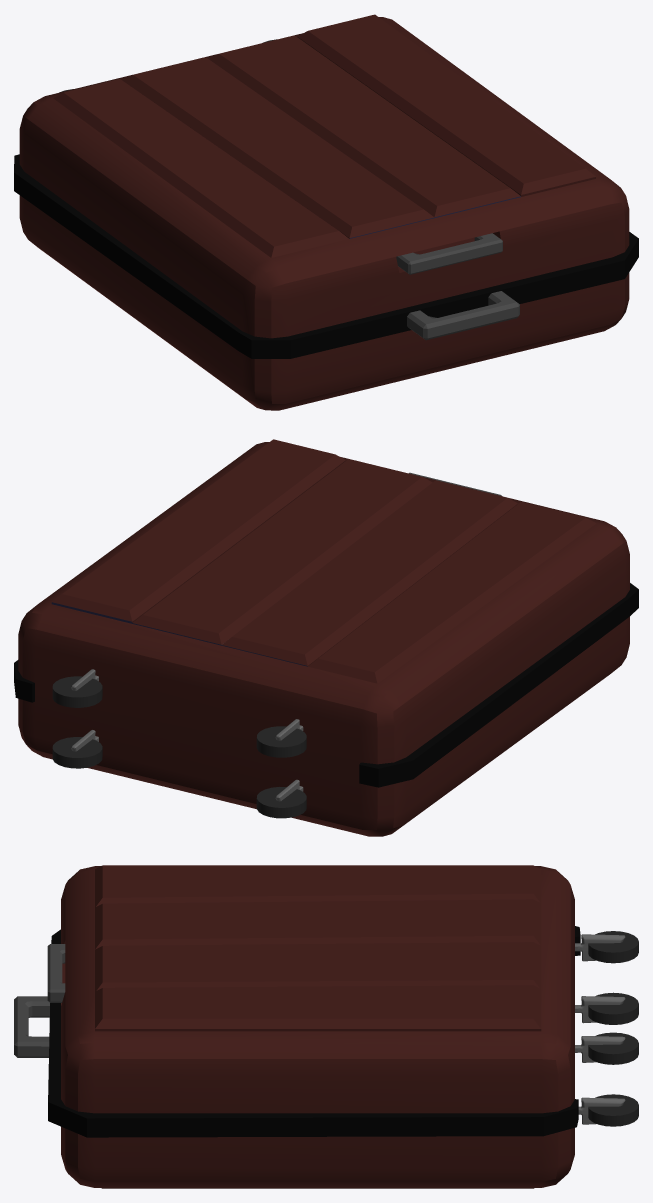
File: valise rouge.fbx
3 views of the same model, one above another, from view 1: azimuth 30°, elevation 25°; view 2: azimuth 150°, elevation 25°; view 3: azimuth 270°, elevation 25° (orthographic). The views are drawn at different scales.
Parts seen in each view (by area): view 1: pCube1, pCube2, pasted__pCube2; view 2: pCube1, pasted__pasted__pasted__pCylinder1 (×2), pasted__pasted__pCylinder1, pasted__pasted__pasted__pasted__pCylinder1; view 3: pCube1, pasted__pasted__pasted__pCylinder1 (×2), pCube2, pasted__pasted__pasted__pCube2 (×2), pasted__pasted__pCylinder1, pasted__pasted__pasted__pasted__pCylinder1, pasted__pCube2, pasted__pasted__pCube2, pasted__pasted__pasted__pasted__pCube2.
Part boxes in pixels (<box>): pCube1: <box>14,14,638,410</box>; pCube2: <box>407,291,519,340</box>; pasted__pCube2: <box>396,233,502,274</box>; pCube1: <box>14,439,638,836</box>; pasted__pasted__pasted__pCylinder1 (×2): <box>52,726,306,768</box>; pasted__pasted__pCylinder1: <box>52,676,102,707</box>; pasted__pasted__pasted__pasted__pCylinder1: <box>256,787,306,818</box>; pCube1: <box>48,865,580,1188</box>; pasted__pasted__pasted__pCylinder1 (×2): <box>588,931,638,1126</box>; pCube2: <box>14,996,49,1057</box>; pasted__pasted__pasted__pCube2 (×2): <box>575,934,625,1124</box>; pasted__pasted__pCylinder1: <box>588,1032,638,1064</box>; pasted__pasted__pasted__pasted__pCylinder1: <box>588,992,638,1024</box>; pasted__pCube2: <box>47,944,65,1002</box>; pasted__pasted__pCube2: <box>575,1036,625,1062</box>; pasted__pasted__pasted__pasted__pCube2: <box>575,996,625,1023</box>.
Bounding box in the file's own units: 1.87 × 0.7376 × 2.46.
